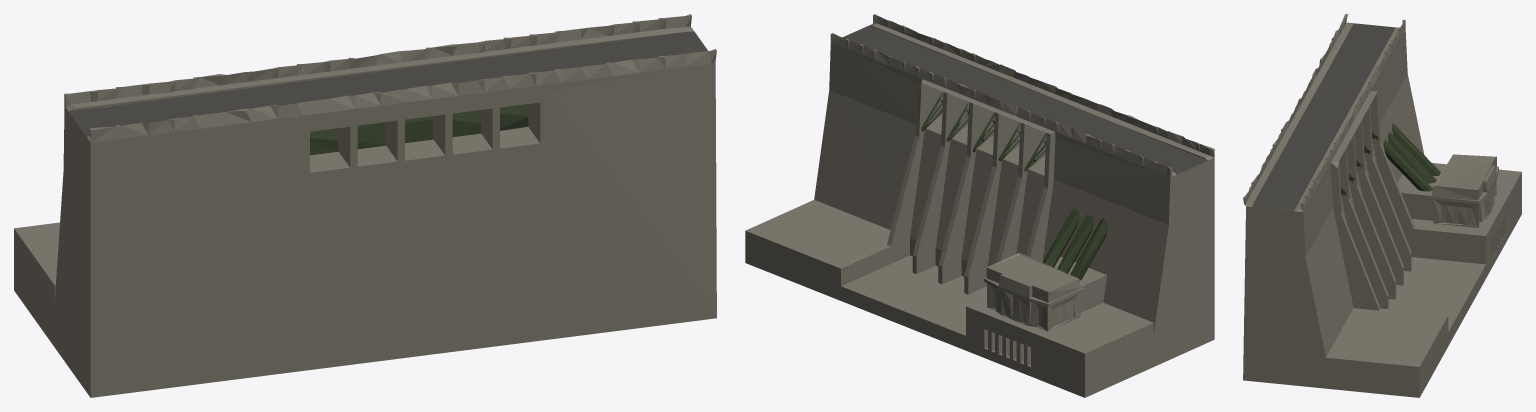
Rendered from dam-spillway.zfix-v4.lod2.glb.
The picture shows the model from 3 angles, left to right: view 1: azimuth 30°, elevation 25°; view 2: azimuth 150°, elevation 25°; view 3: azimuth 270°, elevation 25°; orthographic projection. The views are drawn at different scales.
Visible parts, largest first — view 1: Object_4; view 2: Object_4; view 3: Object_4.
Boxes of the visible parts, x1,y1,x2,y2 form: Object_4: (14,14,716,397); Object_4: (745,14,1214,397); Object_4: (1243,14,1521,397).
Size of the model in its own units: 122 by 51.58 by 71.35.
